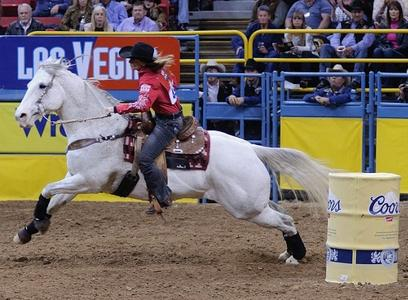person: (110, 39, 185, 218)
